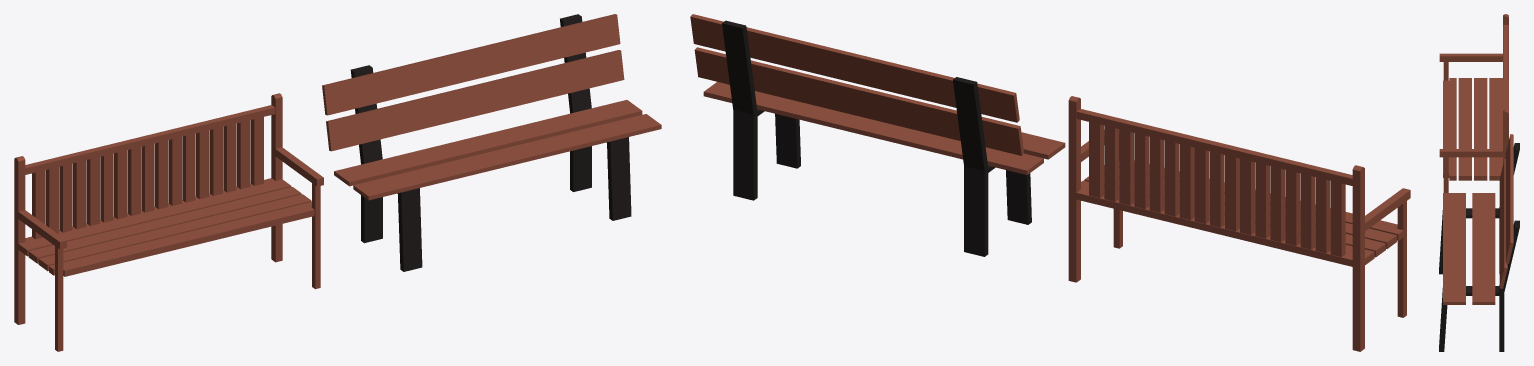
File: Benches.fbx
3 views of the same model, side by side, from view 1: azimuth 30°, elevation 25°; view 2: azimuth 150°, elevation 25°; view 3: azimuth 270°, elevation 25° (orthographic). The views are drawn at different scales.
Visible parts, largest first — view 1: Bench_1, Bench_2; view 2: Bench_1, Bench_2; view 3: Bench_1, Bench_2.
Part boxes in pixels (<box>): Bench_1: <box>322,14,661,271</box>; Bench_2: <box>14,93,323,351</box>; Bench_1: <box>690,14,1065,256</box>; Bench_2: <box>1068,96,1410,351</box>; Bench_1: <box>1439,134,1519,351</box>; Bench_2: <box>1439,14,1508,192</box>.
Bounding box in the file's own units: 309 × 81.04 × 47.04.
